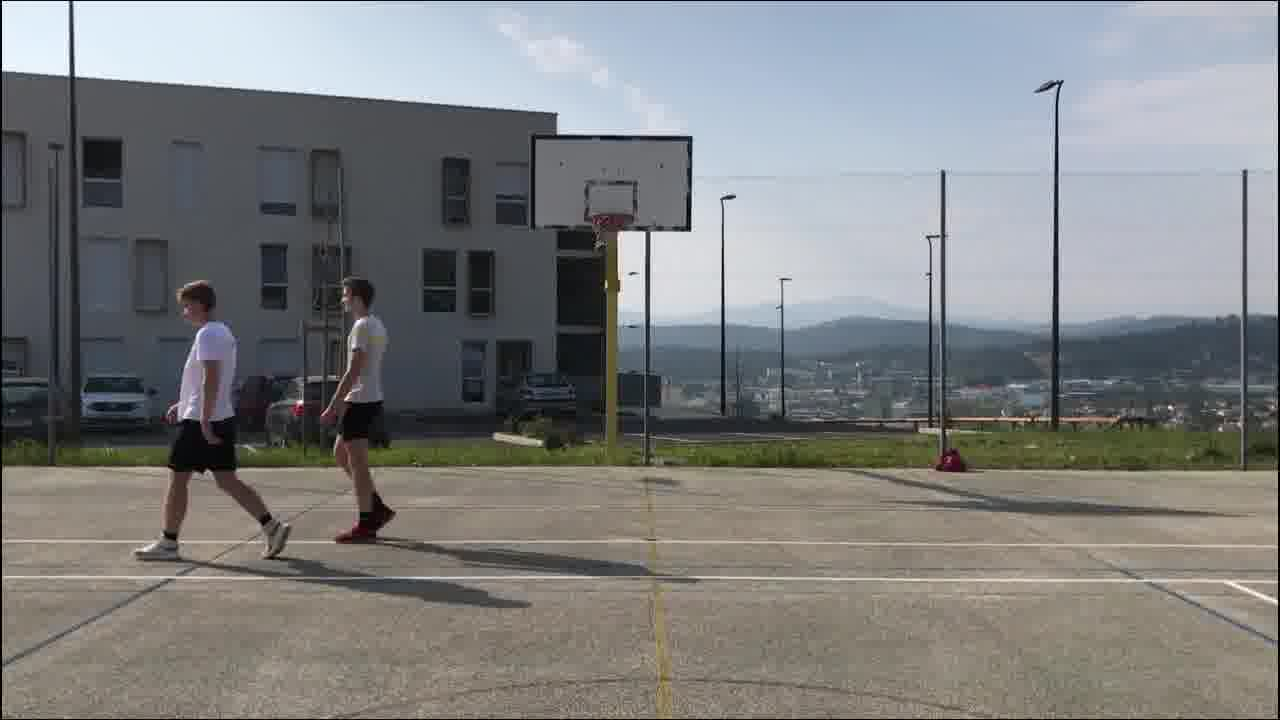jugador: (306, 263, 407, 558)
